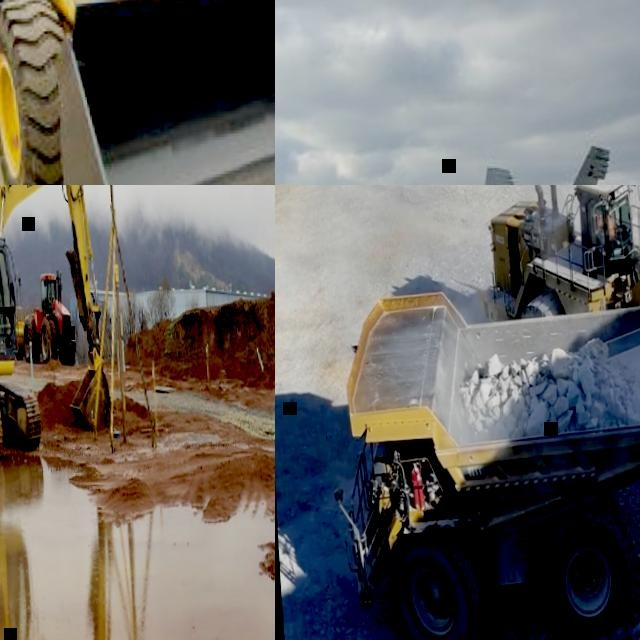Person: (597, 209, 619, 242)
Safety Vest: (597, 215, 616, 240)
machinery: (319, 272, 640, 640), (0, 0, 275, 185), (482, 185, 640, 506), (0, 185, 111, 459), (142, 0, 275, 185), (11, 270, 77, 367)
